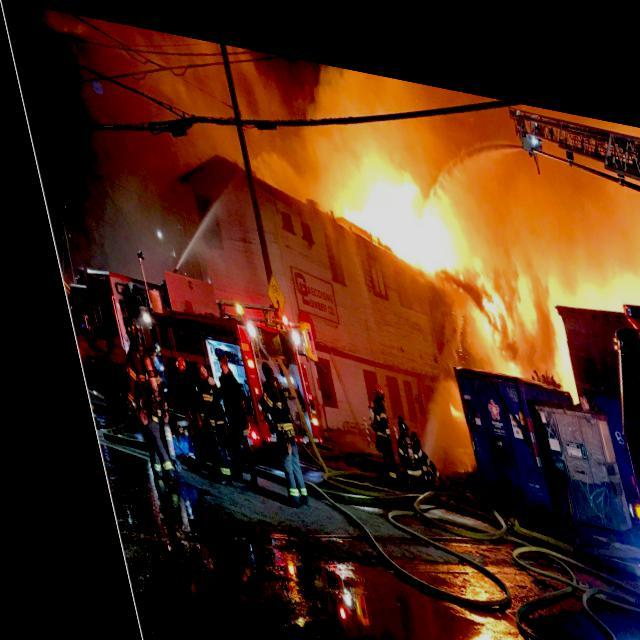Fire: (308, 109, 639, 383)
